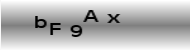9: (69, 23, 83, 37)
A: (82, 9, 99, 23)
F: (49, 21, 62, 36)
b: (34, 15, 47, 28)
x: (106, 12, 120, 24)
